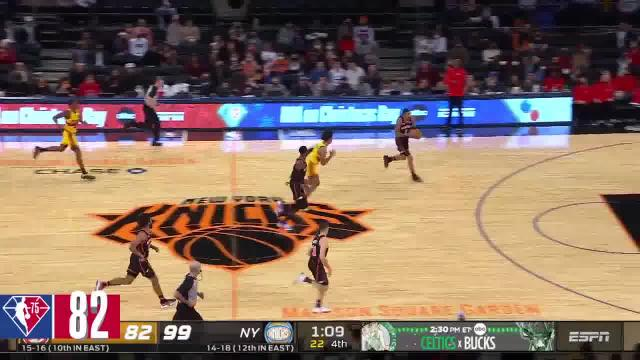ball-handler: (381, 104, 424, 183)
player: (120, 209, 178, 308), (48, 95, 96, 180), (294, 219, 334, 316), (300, 119, 337, 204), (272, 145, 310, 227)
